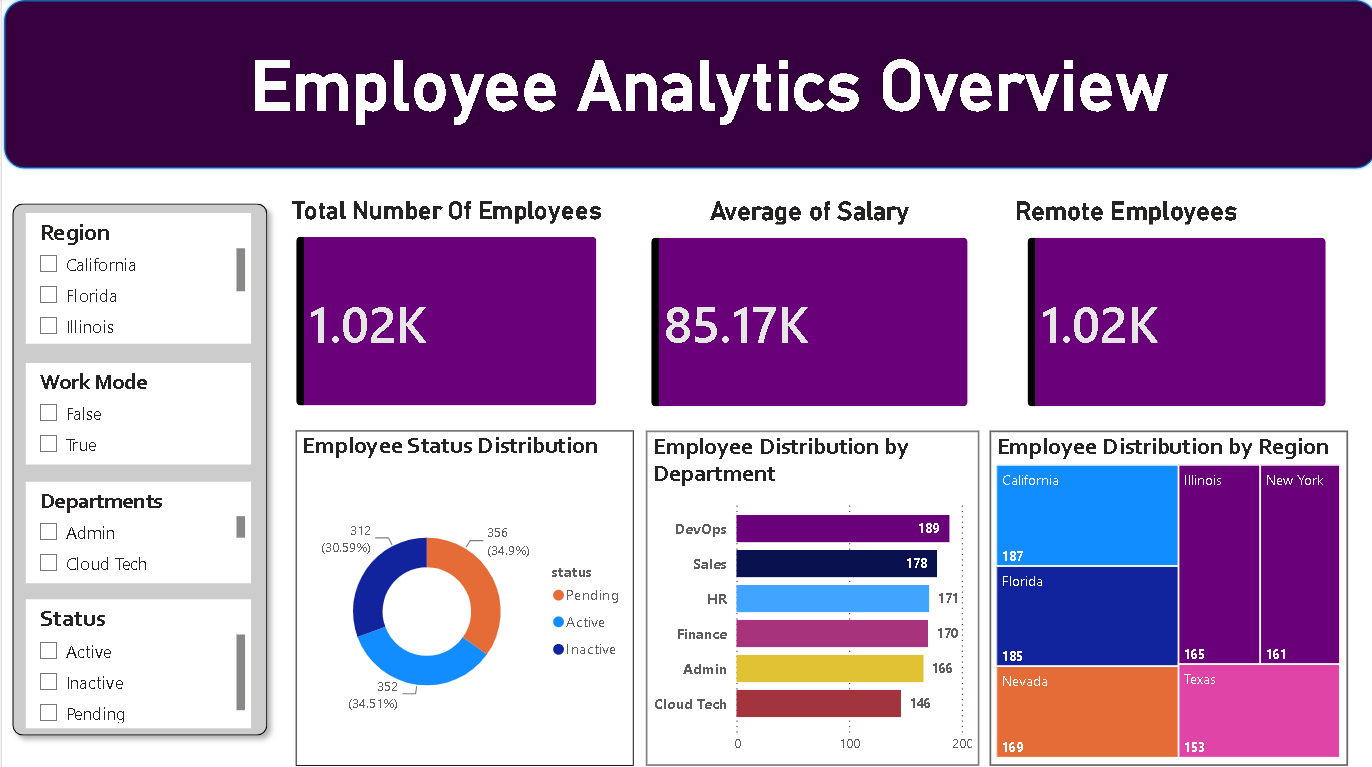

This screenshot's page, from the dashboard's own definition file:
{"tool":"powerbi","page":{"name":"Page 1","canvas":[1280,720],"ordinal":0},"visuals":[{"type":"shape","box":[0,0,1280.3,160.5],"z":0},{"type":"textbox","box":[131.7,19.2,1053.9,141.3],"z":1000},{"type":"cardVisual","title":"Total Number Of Employees","fields":{"Data":["Count(public employee_details.employee_id)"]},"box":[256.6,183.7,313.3,213.4],"z":2000},{"type":"cardVisual","title":"Average of Salary","fields":{"Data":["Avg(public employee_details.salary)"]},"box":[587.5,183.7,328.2,213.4],"z":3000},{"type":"cardVisual","title":"Remote Employees","fields":{"Data":["CountNonNull(public employee_details.remote_work)"]},"box":[937.2,183.7,312,213.4],"z":4000},{"type":"slicer","fields":{"Values":["public employee_details.age_group"]},"box":[21.6,199.9,209.3,133.7],"z":5000},{"type":"shape","box":[0,181,256.6,514.5],"z":6000},{"type":"slicer","fields":{"Values":["public employee_details.region"]},"box":[21.6,199.9,209.3,121.5],"z":7000},{"type":"slicer","fields":{"Values":["public employee_details.remote_work"]},"box":[21.6,339,209.3,94.5],"z":8000},{"type":"slicer","fields":{"Values":["public employee_details.department"]},"box":[21.6,449.7,209.3,94.5],"z":9000},{"type":"slicer","fields":{"Values":["public employee_details.status"]},"box":[21.6,559.1,209.3,120.2],"z":10000},{"type":"donutChart","title":"Employee Status Distribution","fields":{"Category":["public employee_details.status"],"Y":["Count(public employee_details.employee_id)"]},"box":[272.8,402.4,314.7,312],"z":11000},{"type":"clusteredBarChart","title":"Employee Distribution by Department","fields":{"Category":["public employee_details.department"],"Y":["Count(public employee_details.employee_id)"]},"box":[598.3,402.4,310.6,312],"z":12000},{"type":"treemap","title":"Employee Distribution by Region","fields":{"Group":["public employee_details.region"],"Values":["CountNonNull(public employee_details.employee_id)"]},"box":[918.3,402.4,333.6,312],"z":13000}]}

Visuals, with their boxes in screenshot pixels (x1, y1, x2, y2), scaled from the page's 1280x720 canvas onto the 1372x767 screenshot:
shape: [x1=0, y1=0, x2=1371, y2=171]
textbox: [x1=141, y1=20, x2=1271, y2=171]
"Total Number Of Employees" cardVisual: [x1=275, y1=196, x2=611, y2=423]
"Average of Salary" cardVisual: [x1=630, y1=196, x2=982, y2=423]
"Remote Employees" cardVisual: [x1=1005, y1=196, x2=1339, y2=423]
slicer - public employee_details.age_group: [x1=23, y1=213, x2=247, y2=355]
shape: [x1=0, y1=193, x2=275, y2=741]
slicer - public employee_details.region: [x1=23, y1=213, x2=247, y2=342]
slicer - public employee_details.remote_work: [x1=23, y1=361, x2=247, y2=462]
slicer - public employee_details.department: [x1=23, y1=479, x2=247, y2=580]
slicer - public employee_details.status: [x1=23, y1=596, x2=247, y2=724]
"Employee Status Distribution" donutChart: [x1=292, y1=429, x2=630, y2=761]
"Employee Distribution by Department" clusteredBarChart: [x1=641, y1=429, x2=974, y2=761]
"Employee Distribution by Region" treemap: [x1=984, y1=429, x2=1342, y2=761]
